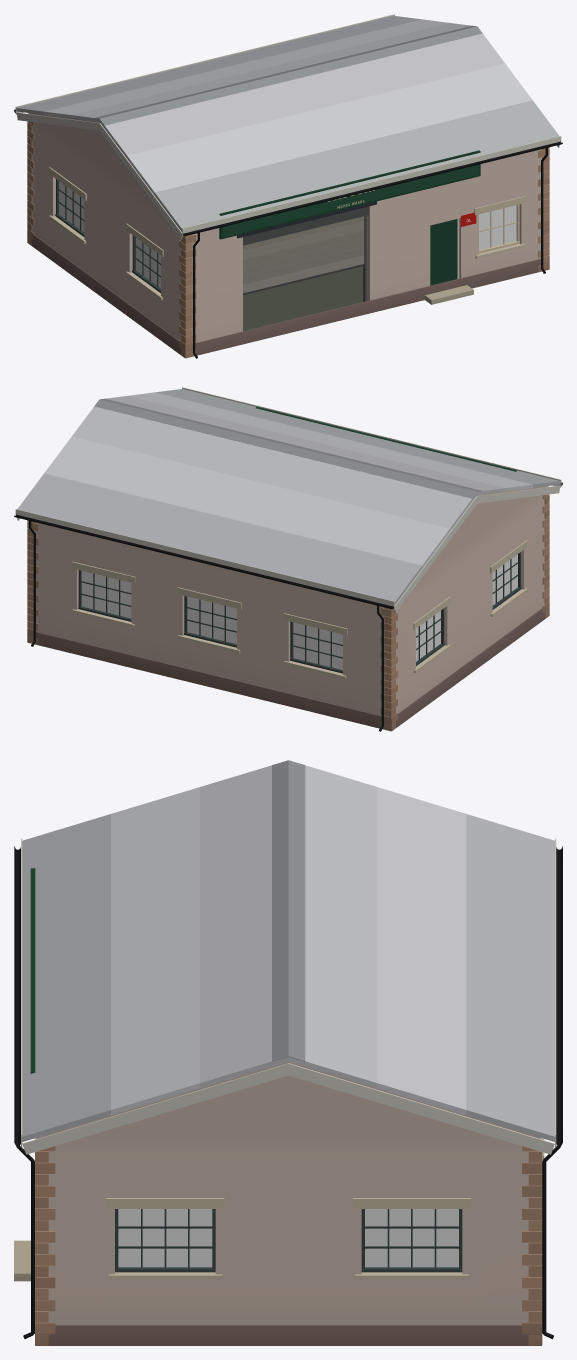
File: garage_shell_a_lod1.glb
3 renders of one model, top to bottom at view 1: azimuth 30°, elevation 25°; view 2: azimuth 150°, elevation 25°; view 3: azimuth 270°, elevation 25°, orthographic. The views are drawn at different scales.
Visible parts, largest first — view 1: body, roller_door; view 2: body; view 3: body.
Boxes of the visible parts, x1,y1,x2,y2 form: body: [14, 14, 562, 358]; roller_door: [243, 206, 368, 295]; body: [14, 387, 562, 731]; body: [14, 760, 562, 1345].
Size of what is drawn, in the model's own units: 12.52 by 5.81 by 9.79.
